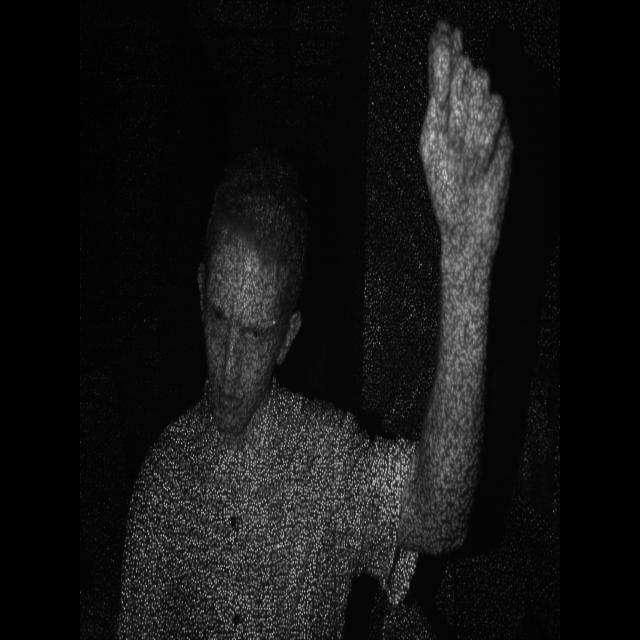T: (414, 2, 515, 238)
